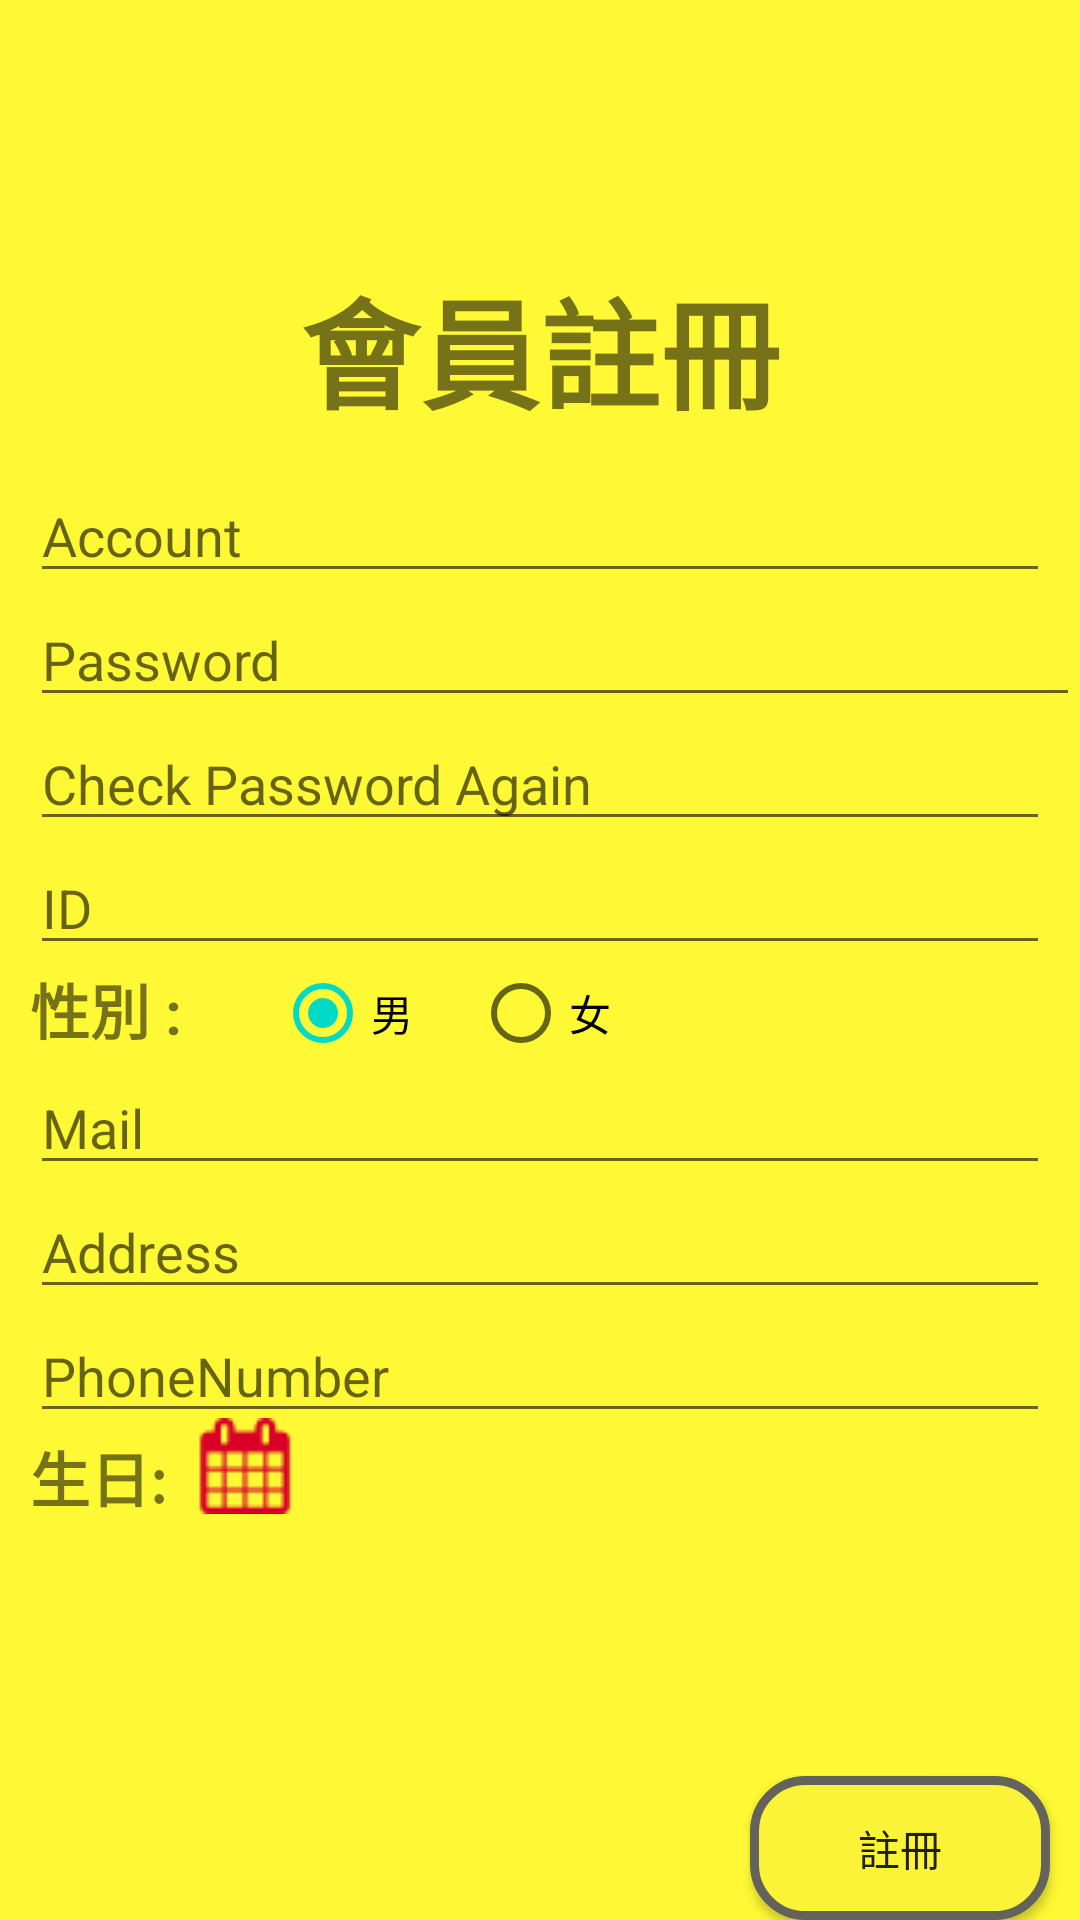

Screen size 1080×1920. Icon name, then its box in pixels as (x1, y1, x2, y2):
calendar: (199, 1418, 291, 1514)
